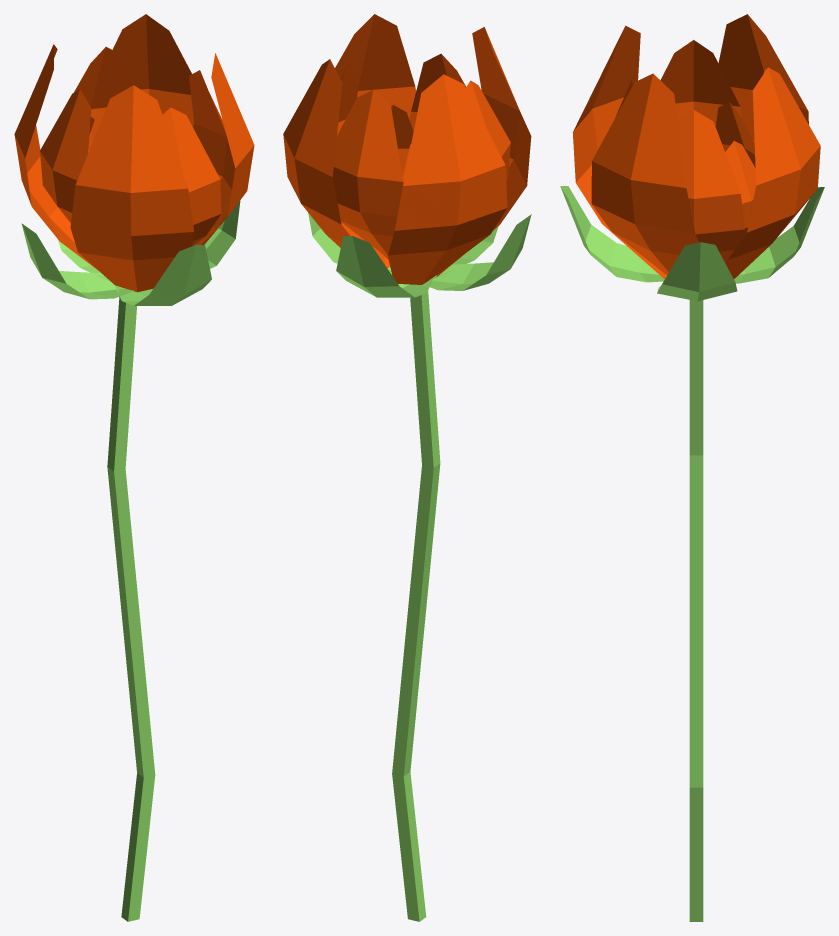
Rendered from FlorLaranja.fbx.
The picture shows the model from 3 angles, left to right: view 1: azimuth 30°, elevation 25°; view 2: azimuth 150°, elevation 25°; view 3: azimuth 270°, elevation 25°; orthographic projection.
Parts seen in each view (by area): view 1: Cube; view 2: Cube; view 3: Cube.
Part boxes in pixels (bbox=[...]): Cube: bbox=[14, 14, 254, 921]; Cube: bbox=[283, 14, 531, 921]; Cube: bbox=[560, 14, 824, 921].
Size of the model in its own units: 252 by 934 by 255.
